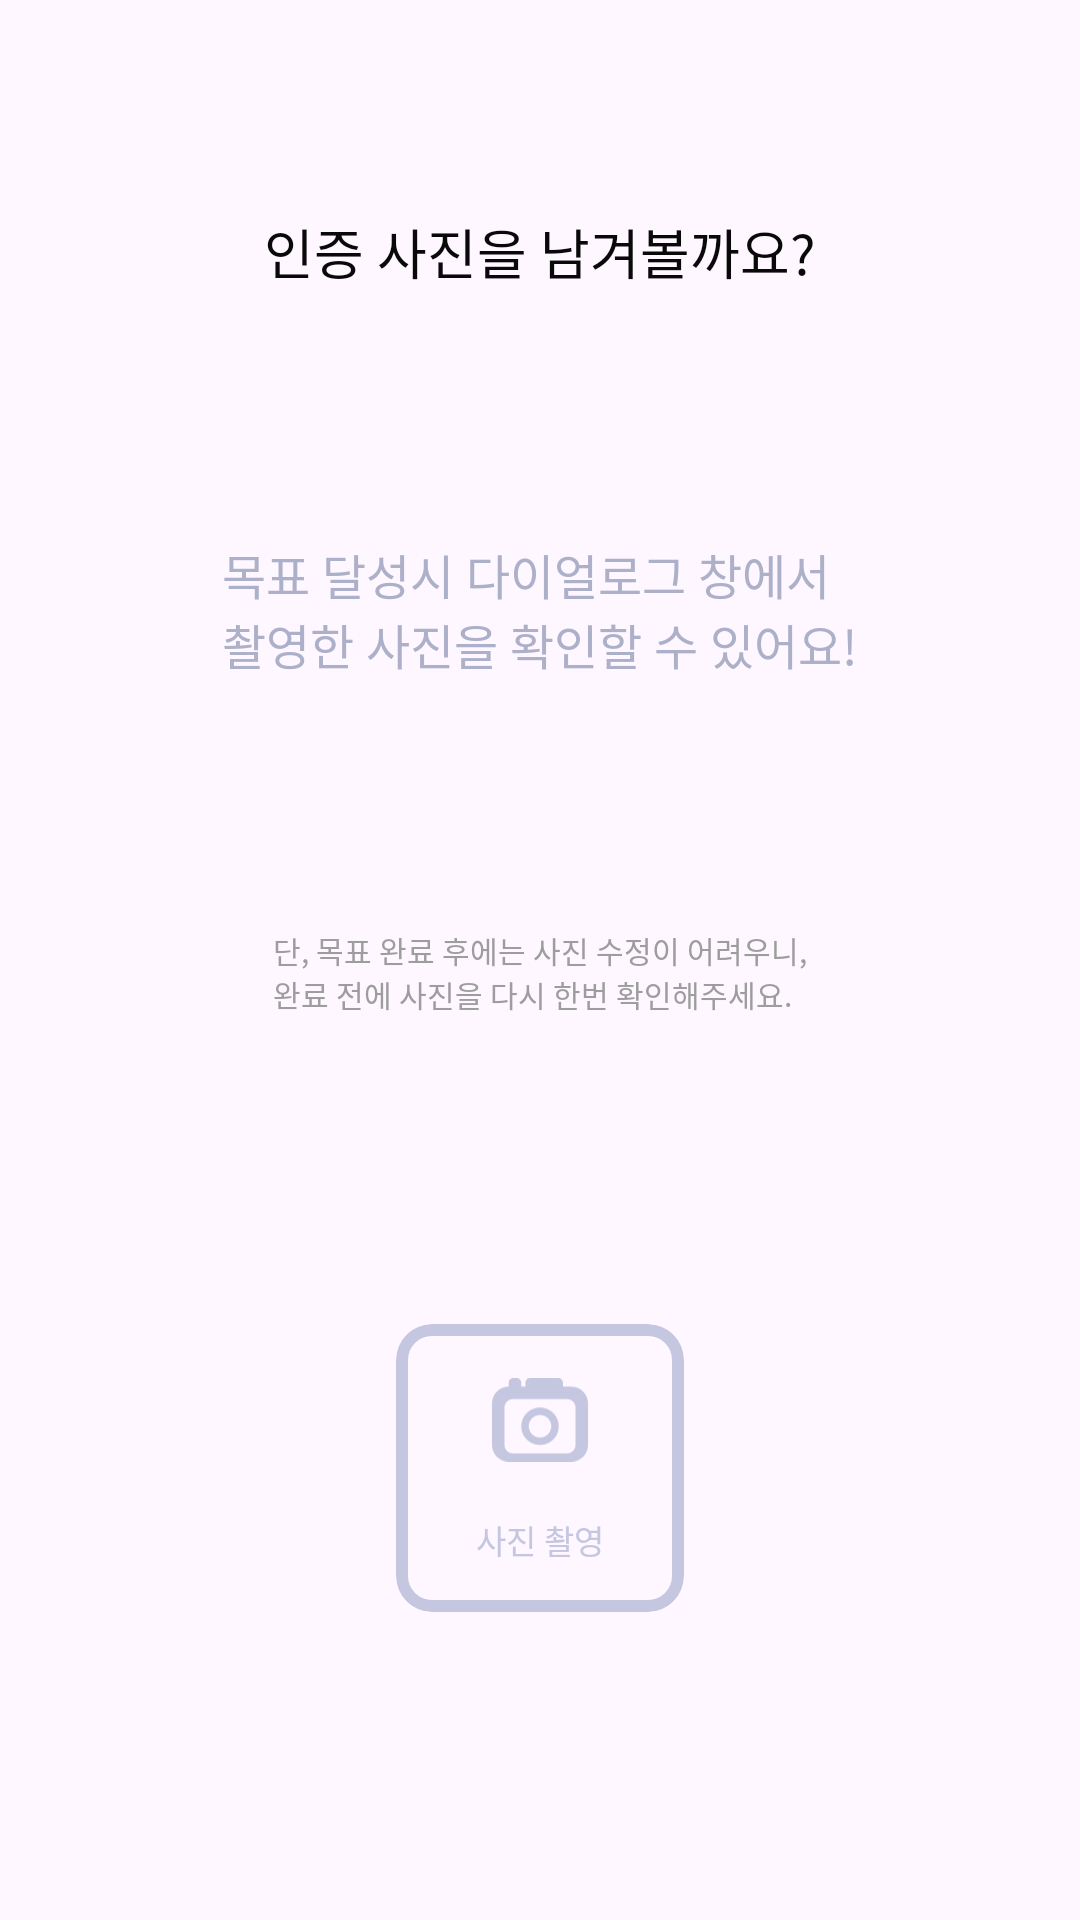

Where to tap for icons on this 1080 × 1920 app screen, as (x,y):
camera: (540,1420)
